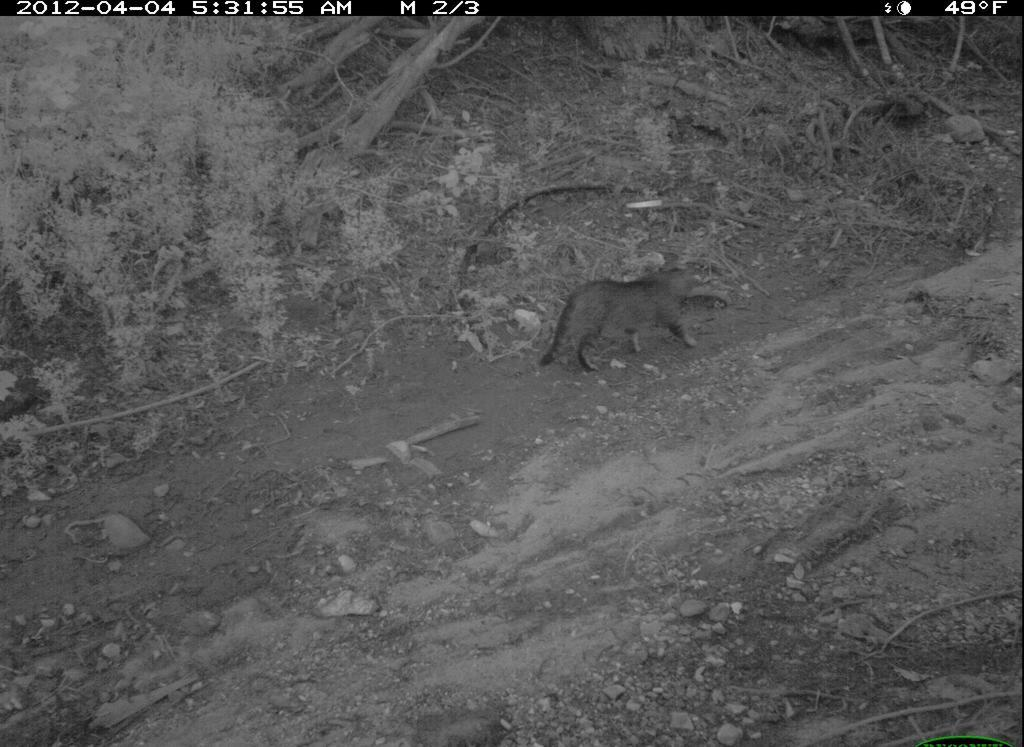cat: (532, 257, 711, 382)
